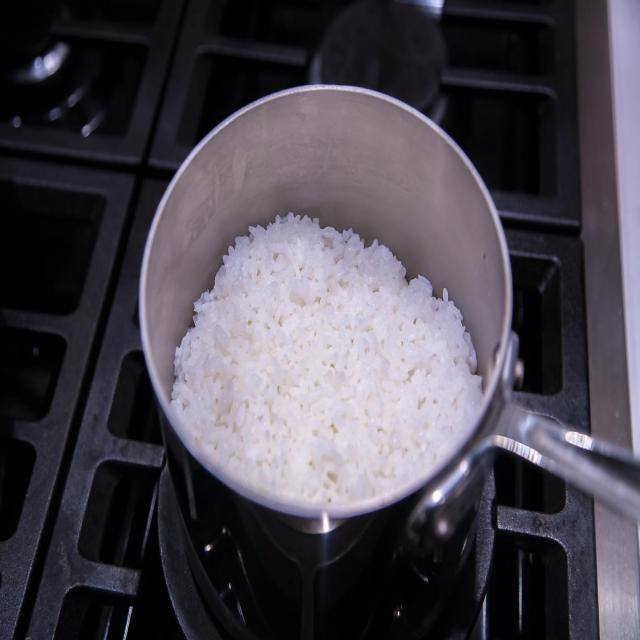rice: (169, 209, 487, 509)
